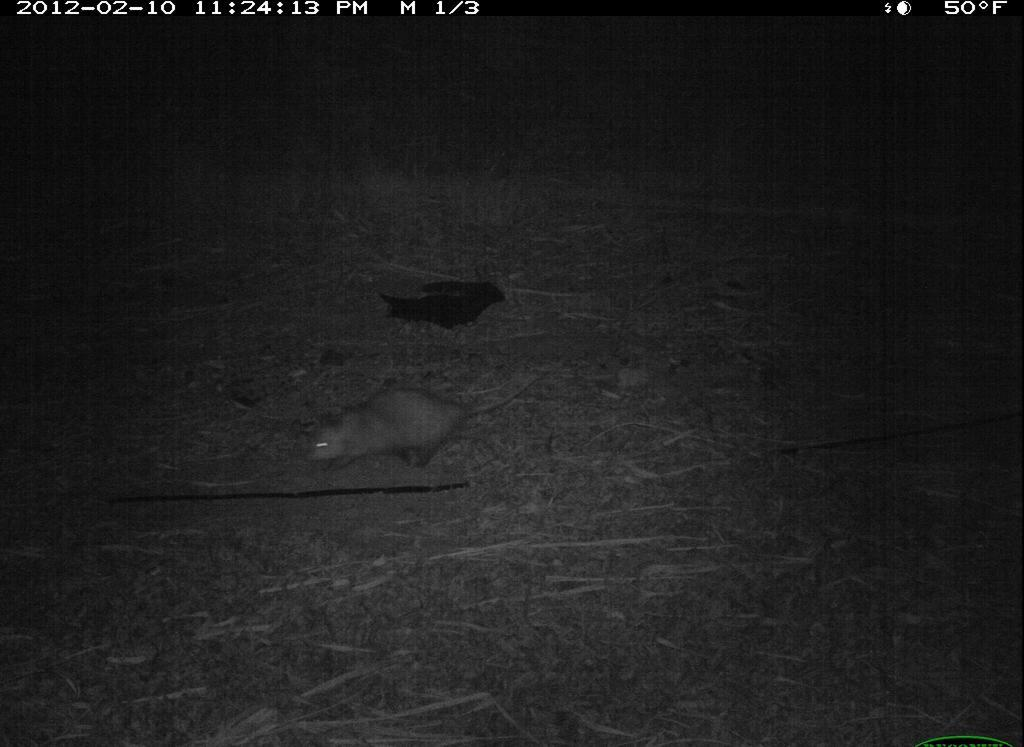opossum: (300, 369, 545, 478)
